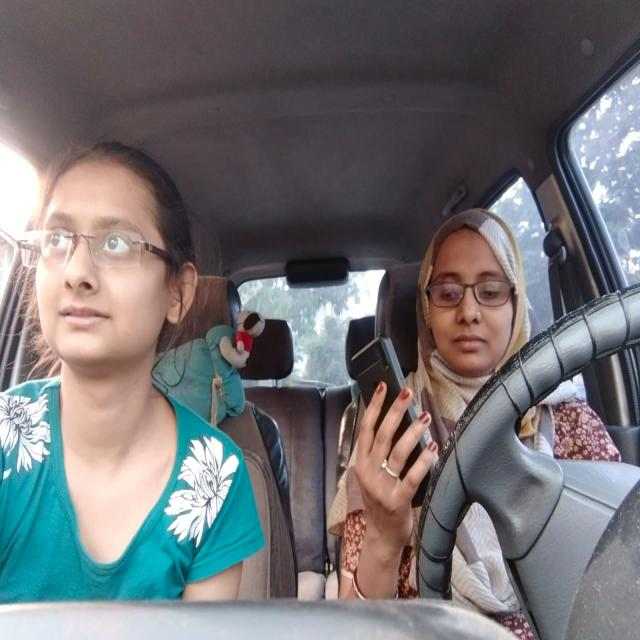mobile: (345, 340, 433, 496)
person: (18, 159, 194, 366), (422, 198, 521, 378)
